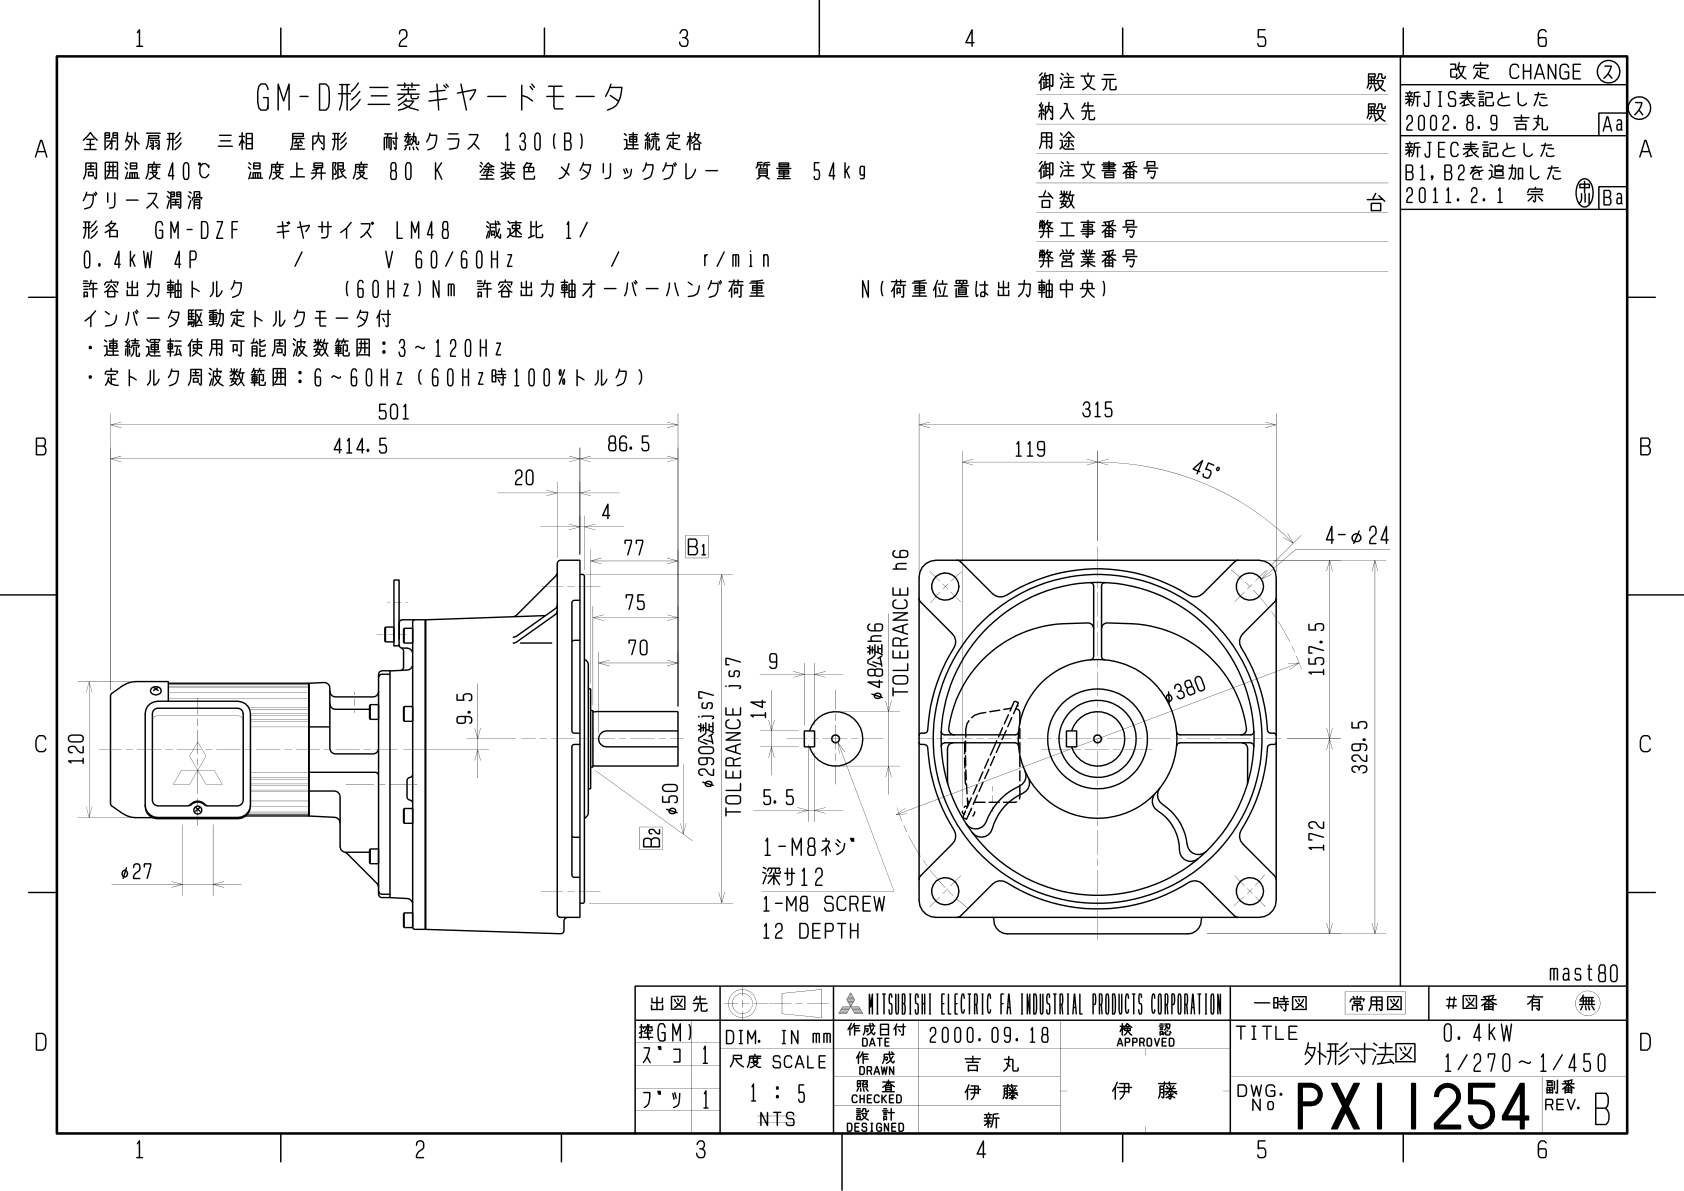GM_D_インバータ屋内_三相_フランジ: (1, 1, 1672, 1178)
